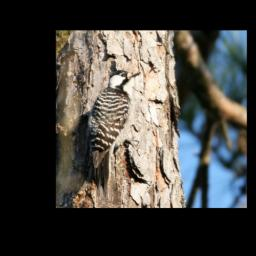Woodpecker: (87, 69, 141, 197)
